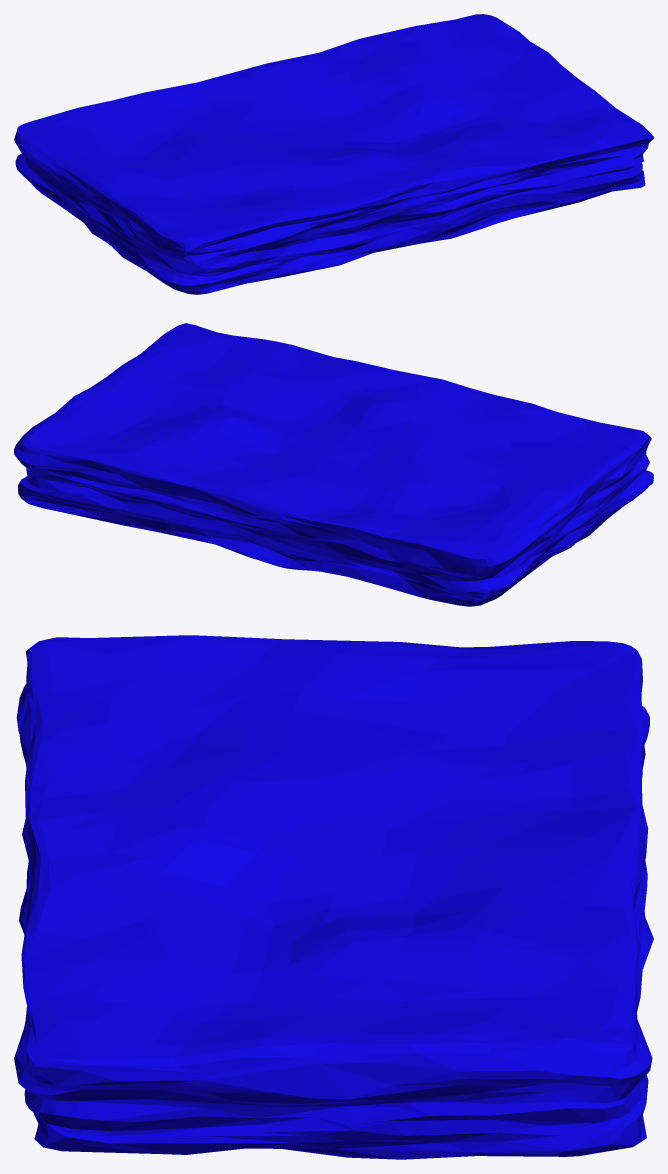
File: SM_ARAMID_FABRIC.glb
3 renders of one model, top to bottom at view 1: azimuth 30°, elevation 25°; view 2: azimuth 150°, elevation 25°; view 3: azimuth 270°, elevation 25°, orthographic. The views are drawn at different scales.
Visible parts, largest first — view 1: SM_ARAMID_FABRIC; view 2: SM_ARAMID_FABRIC; view 3: SM_ARAMID_FABRIC.
Boxes of the visible parts, x1,y1,x2,y2 form: SM_ARAMID_FABRIC: (14, 14, 653, 294); SM_ARAMID_FABRIC: (14, 323, 653, 606); SM_ARAMID_FABRIC: (14, 635, 653, 1159).
Bounding box in the file's own units: 0.4171 × 0.0541 × 0.2606.
